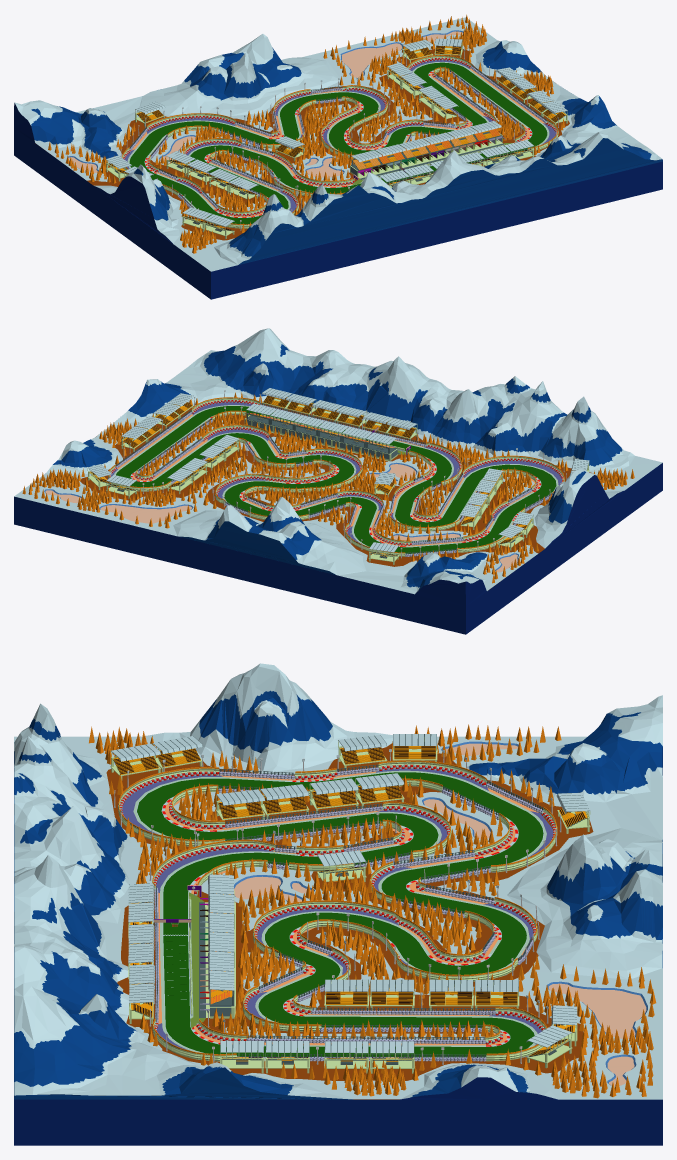
File: track.glb
3 renders of one model, top to bottom at view 1: azimuth 30°, elevation 25°; view 2: azimuth 150°, elevation 25°; view 3: azimuth 270°, elevation 25°, orthographic. The views are drawn at different scales.
Bounding box in the file's own units: 28608 × 5116 × 21613.
1 material, 1 textured.
